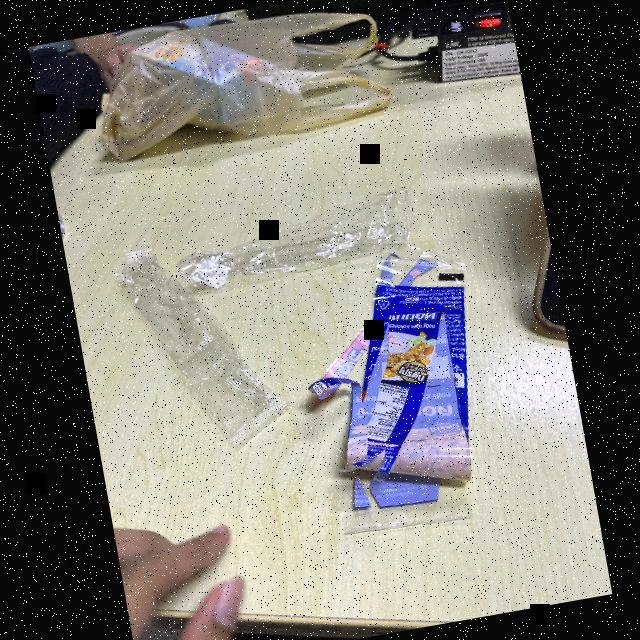scrap_plastic: (291, 225, 533, 560), (78, 226, 286, 460), (150, 169, 440, 311)
